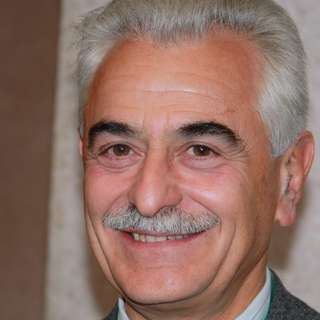eye: (177, 140, 224, 164), (95, 139, 141, 163)
